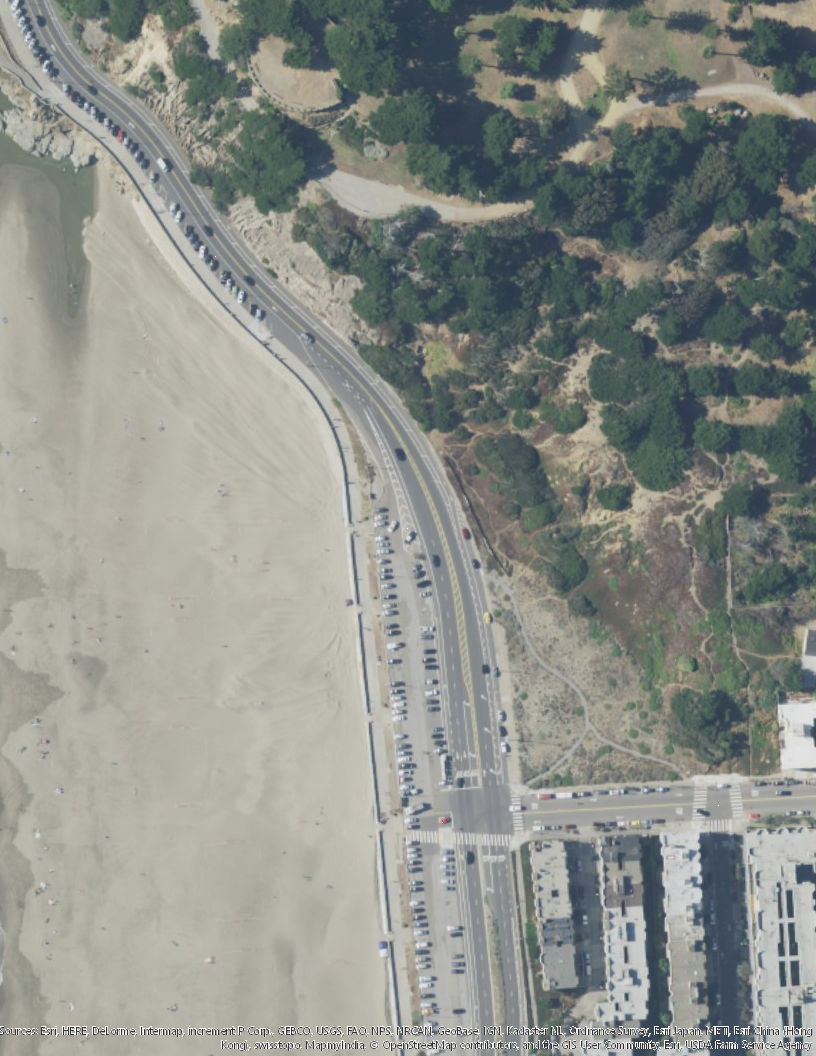zebracross: (454, 830, 512, 846), (691, 781, 710, 819), (407, 828, 441, 846), (510, 792, 525, 832), (730, 782, 744, 819), (705, 817, 736, 833)
